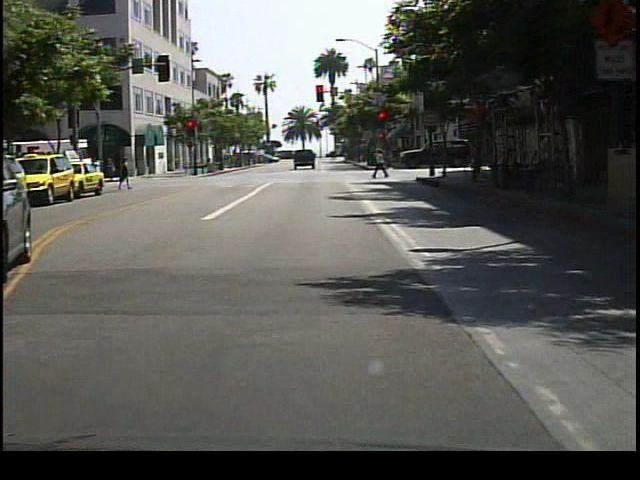person: (466, 138, 486, 182), (116, 157, 133, 192), (374, 147, 392, 180)
